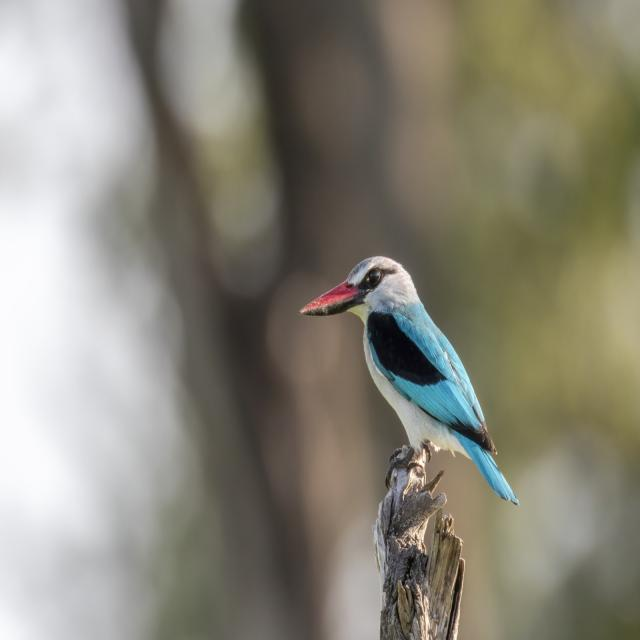kingfisher: (290, 208, 568, 524)
